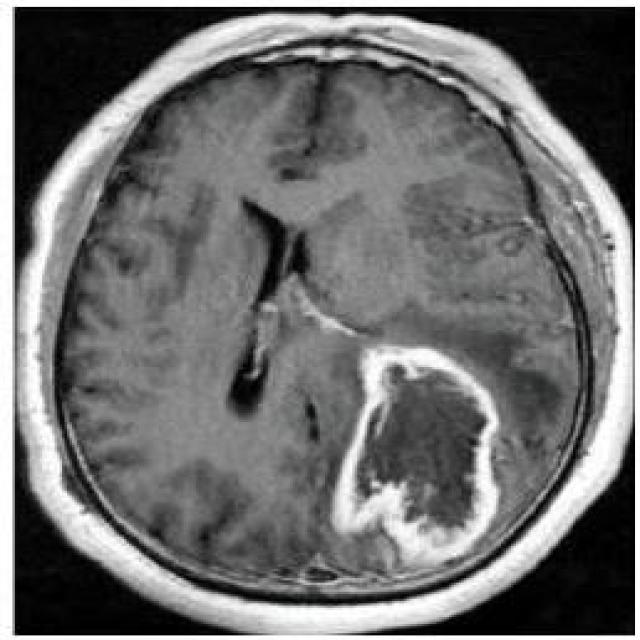Tumor-Cell: (346, 328, 489, 544)
